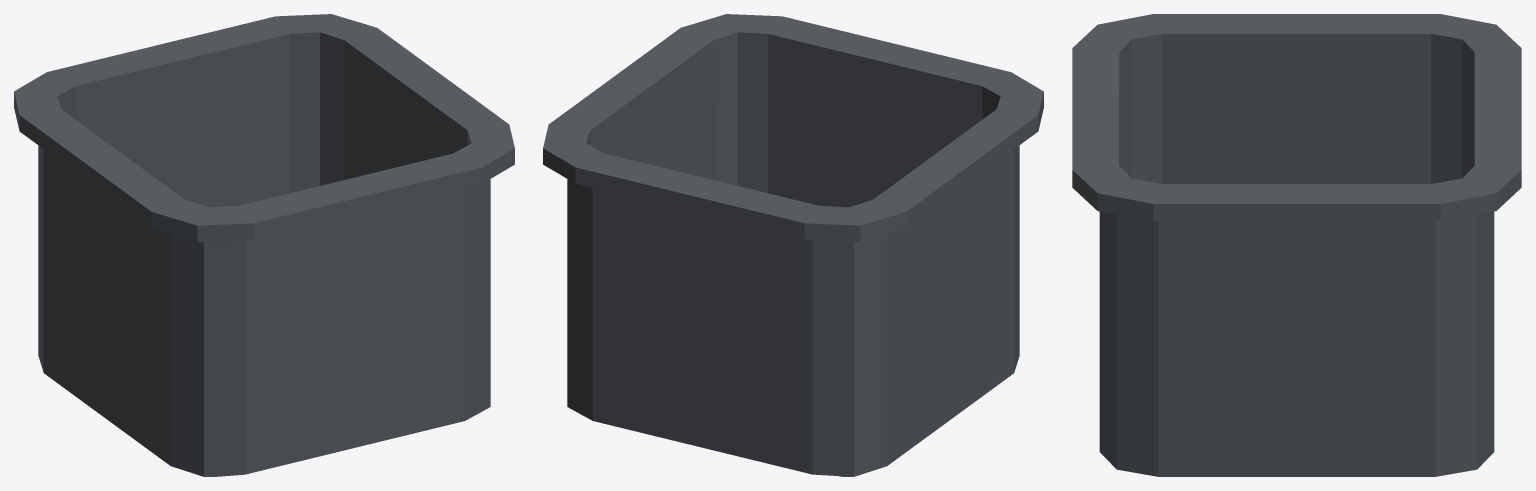
Rendered from SM_Prop_Kitchen_Counter_02_Container_01.obj.
3 views of the same model, side by side, from view 1: azimuth 30°, elevation 25°; view 2: azimuth 150°, elevation 25°; view 3: azimuth 270°, elevation 25° (orthographic). The views are drawn at different scales.
Visible parts, largest first — view 1: SM_Prop_Kitchen_Counter_02_Container_01_0; view 2: SM_Prop_Kitchen_Counter_02_Container_01_0; view 3: SM_Prop_Kitchen_Counter_02_Container_01_0.
Boxes of the visible parts, x1,y1,x2,y2 form: SM_Prop_Kitchen_Counter_02_Container_01_0: (14,14,514,476); SM_Prop_Kitchen_Counter_02_Container_01_0: (543,14,1043,476); SM_Prop_Kitchen_Counter_02_Container_01_0: (1072,14,1521,476).
Bounding box in the file's own units: 0.3647 × 0.2723 × 0.3647.
Materials: 1 (1 with a texture image).
